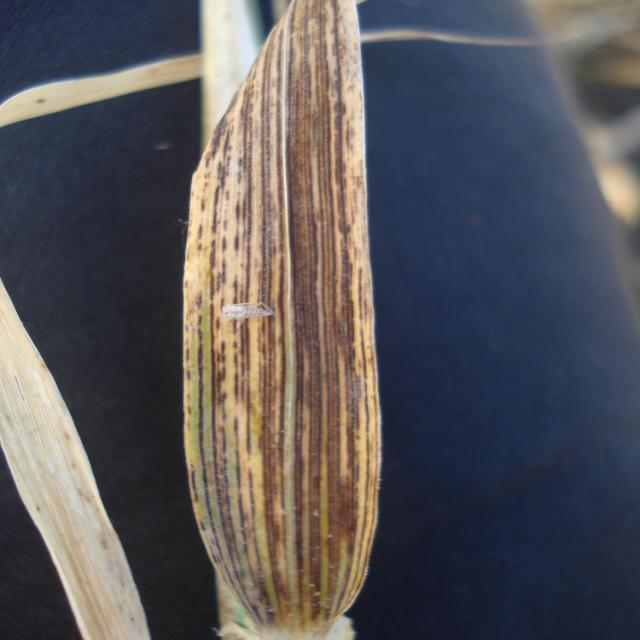Yellow Rust: (181, 0, 382, 639)
